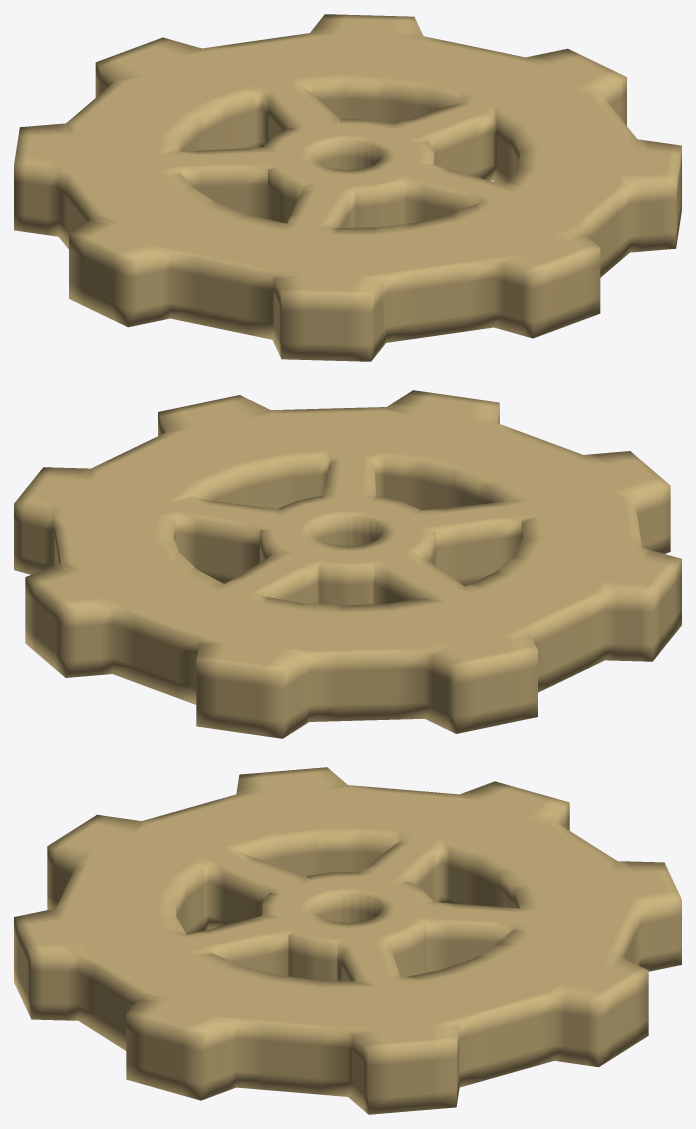
File: gearB (1).fbx
3 renders of one model, top to bottom at view 1: azimuth 30°, elevation 25°; view 2: azimuth 150°, elevation 25°; view 3: azimuth 270°, elevation 25°, orthographic.
Parts seen in each view (by area): view 1: gearB.000; view 2: gearB.000; view 3: gearB.000.
Boxes of the visible parts, <box> form: gearB.000: <box>14,14,681,361</box>; gearB.000: <box>14,390,681,738</box>; gearB.000: <box>14,767,681,1114</box>.
Bounding box in the file's own units: 1.85 × 0.2 × 1.85.
